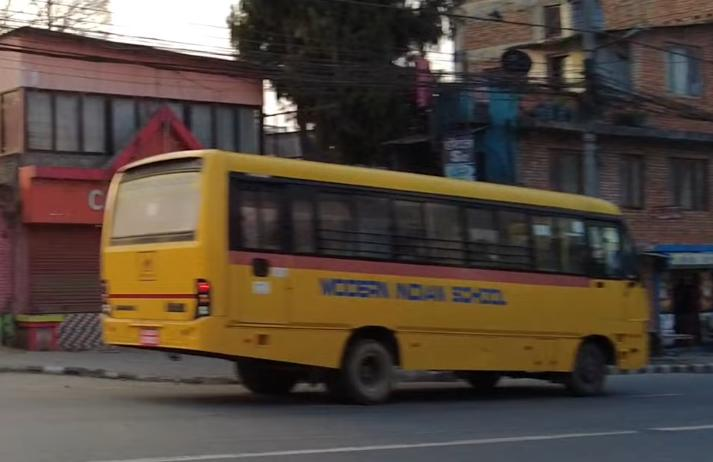school_bus: (90, 144, 655, 421)
